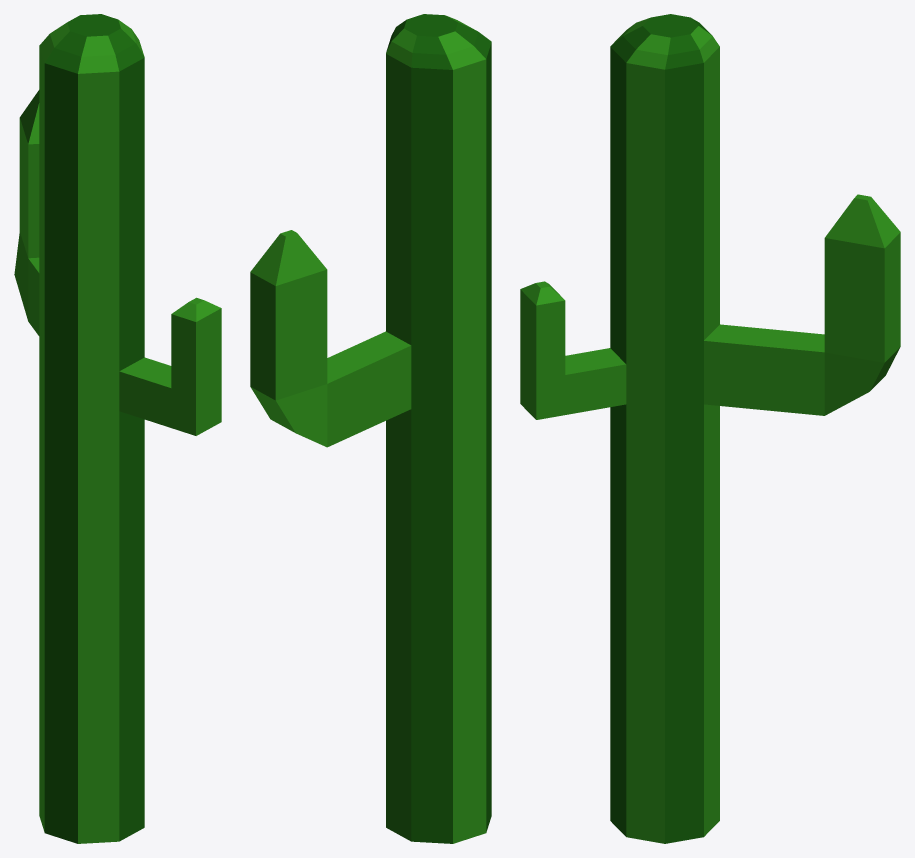
The model's file is 07 Cacktos.FBX.
The picture shows the model from 3 angles, left to right: view 1: azimuth 30°, elevation 25°; view 2: azimuth 150°, elevation 25°; view 3: azimuth 270°, elevation 25°; orthographic projection.
Parts seen in each view (by area): view 1: Cylinder072; view 2: Cylinder072; view 3: Cylinder072.
Boxes of the visible parts, x1=… form: Cylinder072: x1=14, y1=14, x2=221, y2=843; Cylinder072: x1=250, y1=14, x2=491, y2=843; Cylinder072: x1=520, y1=14, x2=900, y2=843.
Bounding box in the file's own units: 48.39 × 292 × 126.
